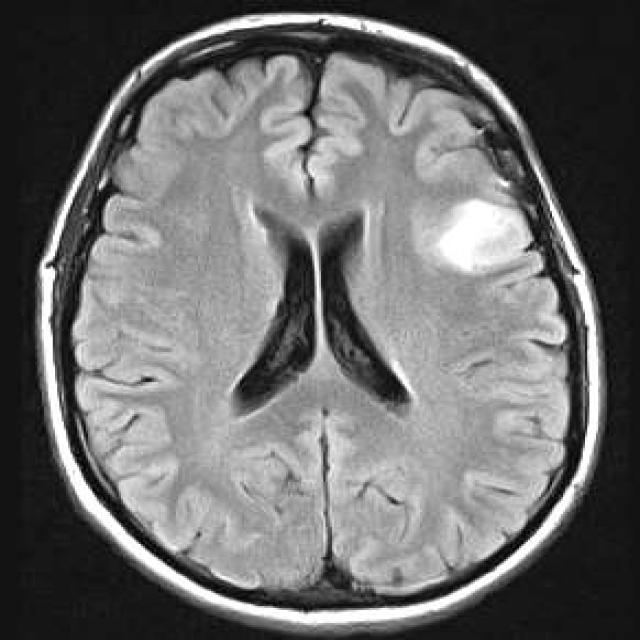Tumor-Cell: (418, 192, 526, 278)
